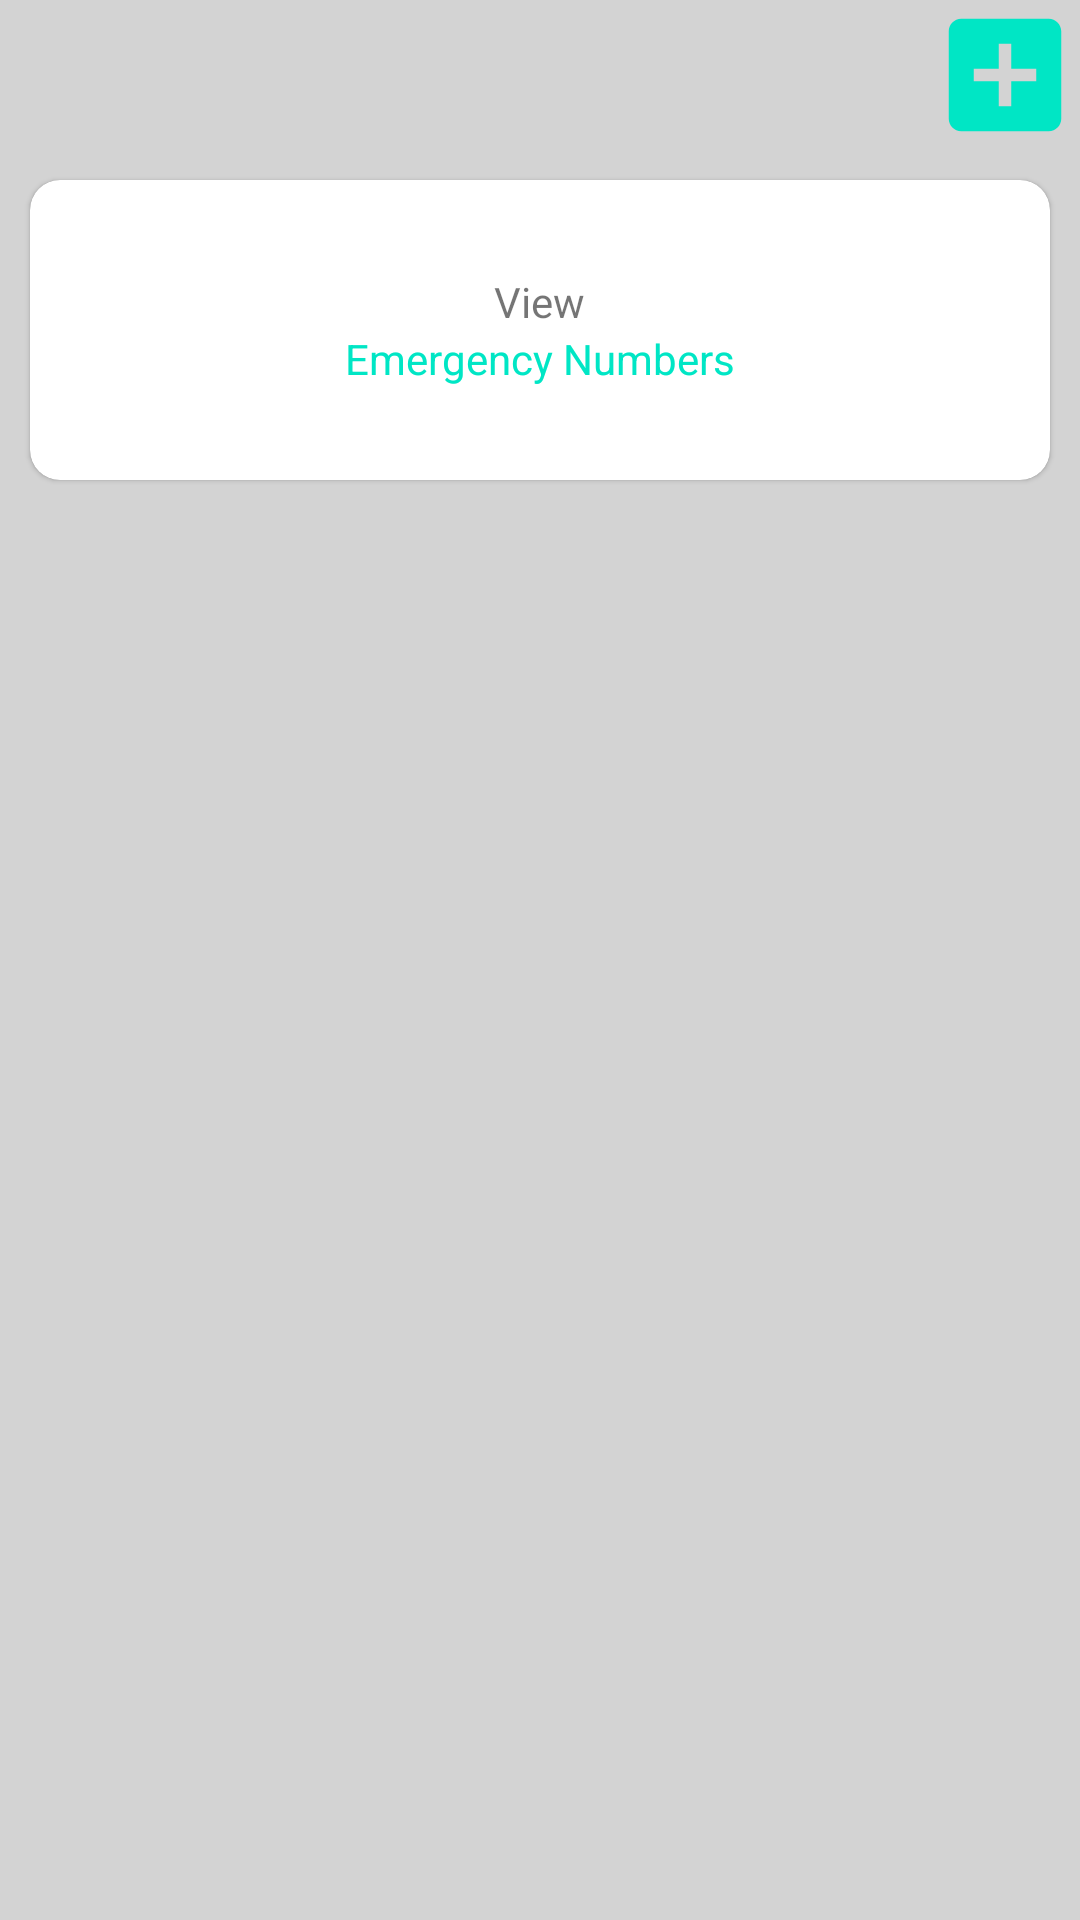

Where icons sit on this 1080x1920 app screen, as bbox=[x1, y1, x2, y2]:
add box: bbox=[948, 18, 1062, 132]
